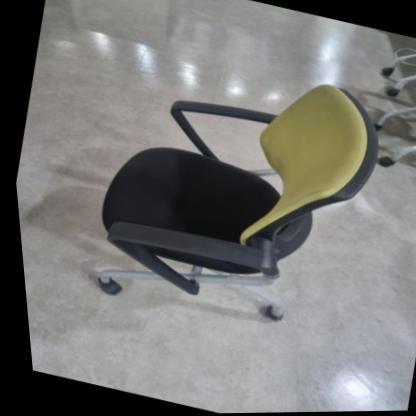Chair: (51, 25, 410, 372)
